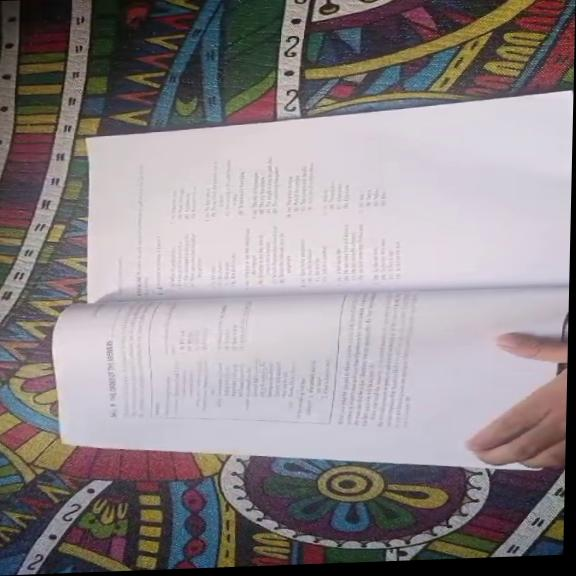Kertas: (54, 287, 568, 497), (89, 91, 572, 300)
